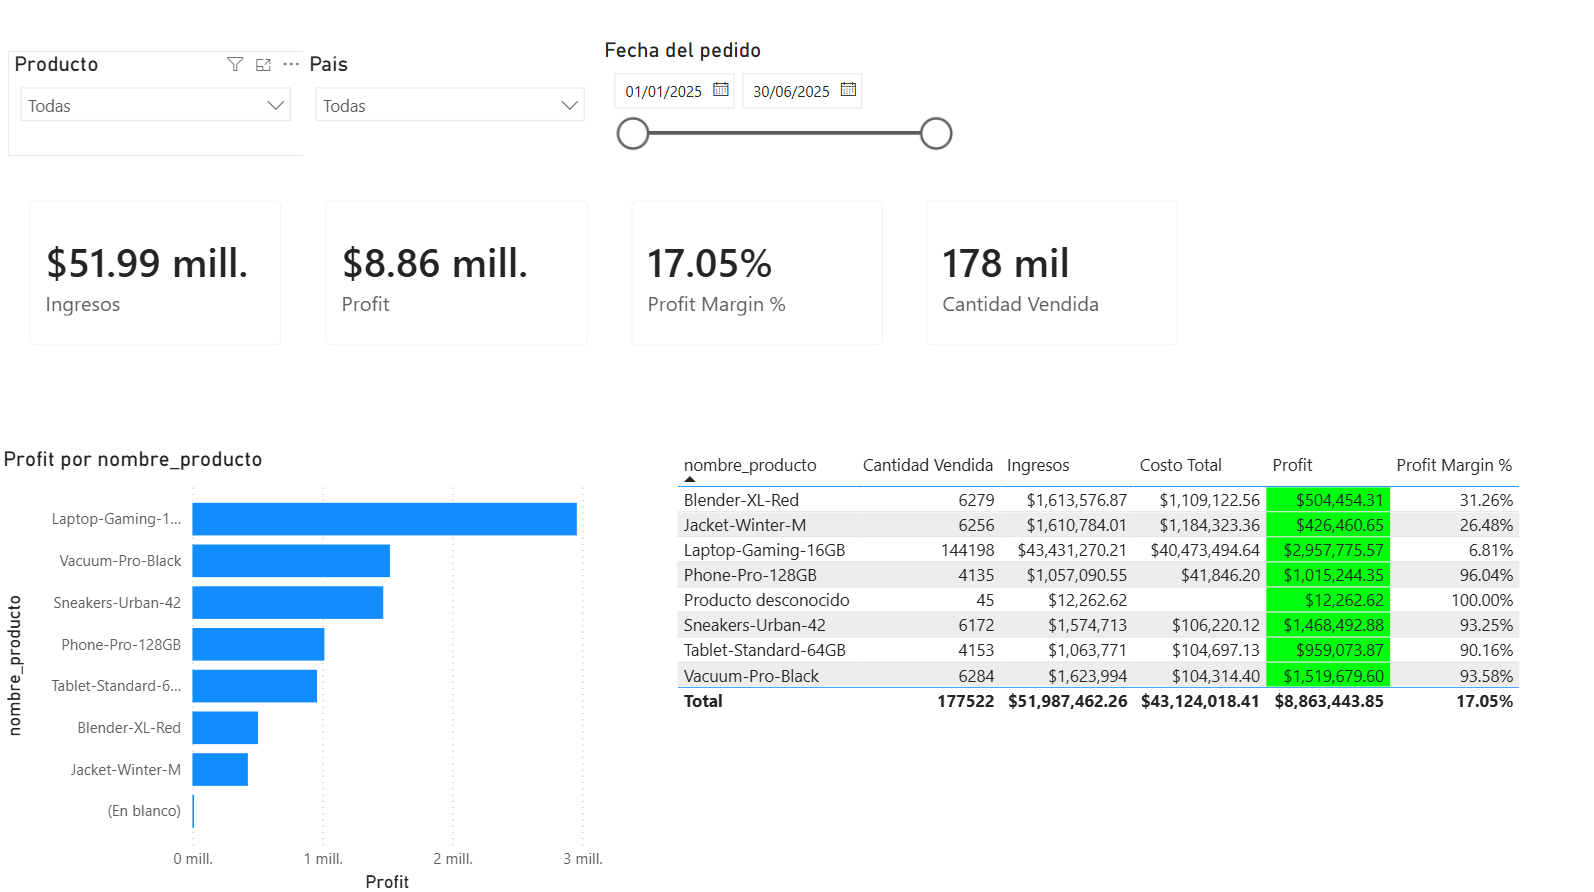

Layout of this report page (visuals, bound fields, positions):
{"tool":"powerbi","page":{"name":"Detalle","canvas":[1280,720],"ordinal":1},"visuals":[{"type":"tableEx","fields":{"Values":["orders_clean.nombre_producto","orders_clean.Cantidad Vendida","orders_clean.Ingresos","orders_clean.Costo Total","orders_clean.Profit","orders_clean.Profit Margin %"]},"box":[537.4,359.7,688.3,236.3],"z":0},{"type":"clusteredBarChart","fields":{"Category":["catalog_clean.nombre_producto"],"Y":["orders_clean.Profit"]},"box":[0,359.7,488.2,360.5],"z":1},{"type":"slicer","title":"Producto","fields":{"Values":["catalog_clean.nombre_producto"]},"box":[8.6,44.9,236.3,83.7],"z":2},{"type":"slicer","title":"Fecha del pedido","fields":{"Values":["orders_clean.fecha_hora_pedido"]},"box":[479.6,33.6,291.5,106.1],"z":3},{"type":"slicer","title":"Pais","fields":{"Values":["orders_clean.pais"]},"box":[244.1,44.9,235.5,83.7],"z":4},{"type":"cardVisual","fields":{"Data":["orders_clean.Ingresos"]},"box":[8.6,146.6,235.5,150.1],"z":5},{"type":"cardVisual","fields":{"Data":["orders_clean.Profit"]},"box":[245,146.6,244.1,150.1],"z":6},{"type":"cardVisual","fields":{"Data":["orders_clean.Profit Margin %"]},"box":[489.1,146.6,235.5,150.1],"z":7},{"type":"cardVisual","fields":{"Data":["orders_clean.Cantidad Vendida"]},"box":[724.5,146.6,235.5,150.1],"z":8}]}

Visuals, with their boxes in screenshot pixels (x1, y1, x2, y2), scaled from the page's 1280x720 canvas onto the 1594x892 screenshot:
tableEx - orders_clean.nombre_producto x orders_clean.Cantidad Vendida: <bbox>669, 446, 1526, 738</bbox>
clusteredBarChart - catalog_clean.nombre_producto x orders_clean.Profit: <bbox>0, 446, 608, 891</bbox>
"Producto" slicer: <bbox>11, 56, 305, 159</bbox>
"Fecha del pedido" slicer: <bbox>597, 42, 960, 173</bbox>
"Pais" slicer: <bbox>304, 56, 597, 159</bbox>
cardVisual - orders_clean.Ingresos: <bbox>11, 182, 304, 368</bbox>
cardVisual - orders_clean.Profit: <bbox>305, 182, 609, 368</bbox>
cardVisual - orders_clean.Profit Margin %: <bbox>609, 182, 902, 368</bbox>
cardVisual - orders_clean.Cantidad Vendida: <bbox>902, 182, 1196, 368</bbox>
